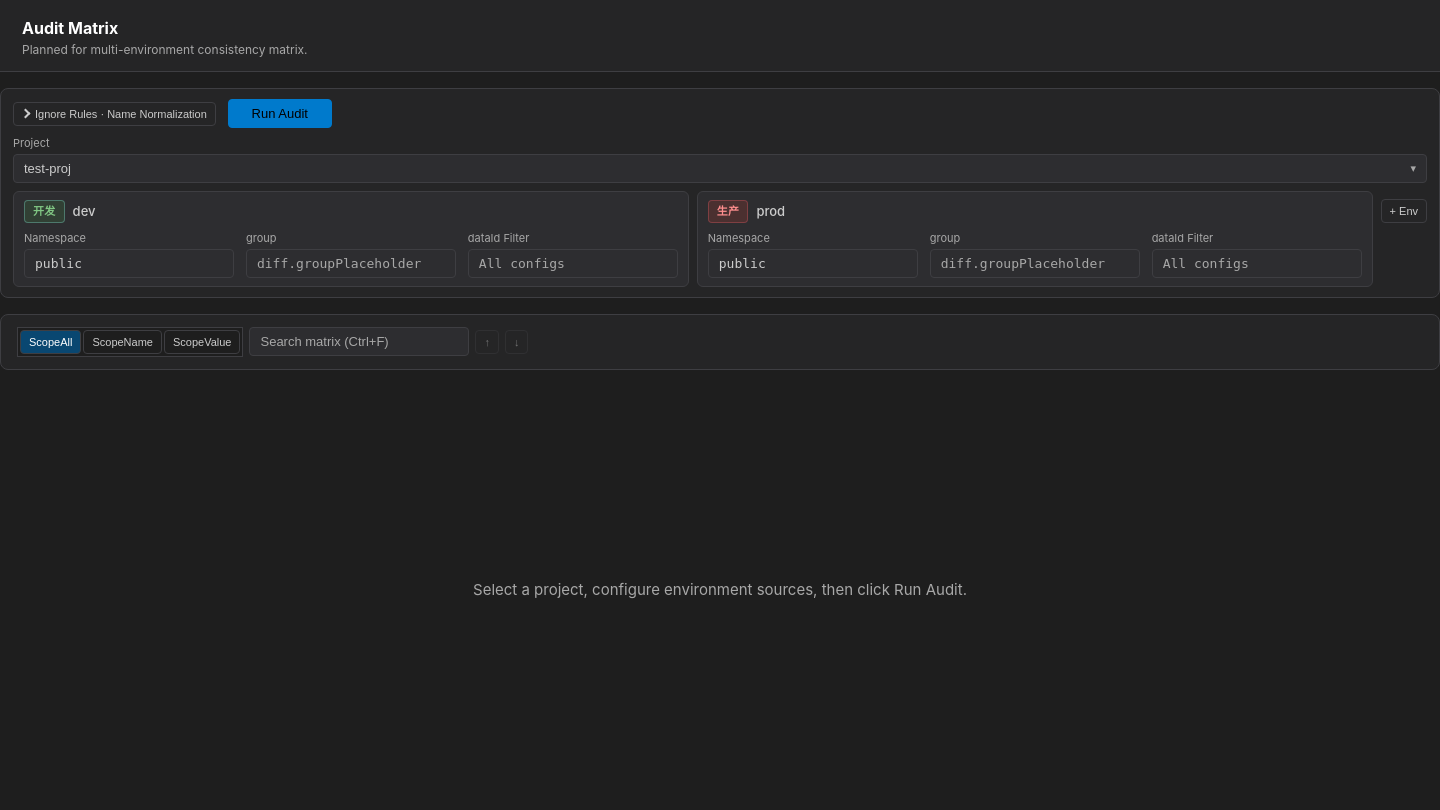
AuditView › 添加和删除归一化规则
This screenshot has width=1440, height=810.
Click the button "Ignore Rules · Name Normalization" at (114, 114), box [13,102,216,126]
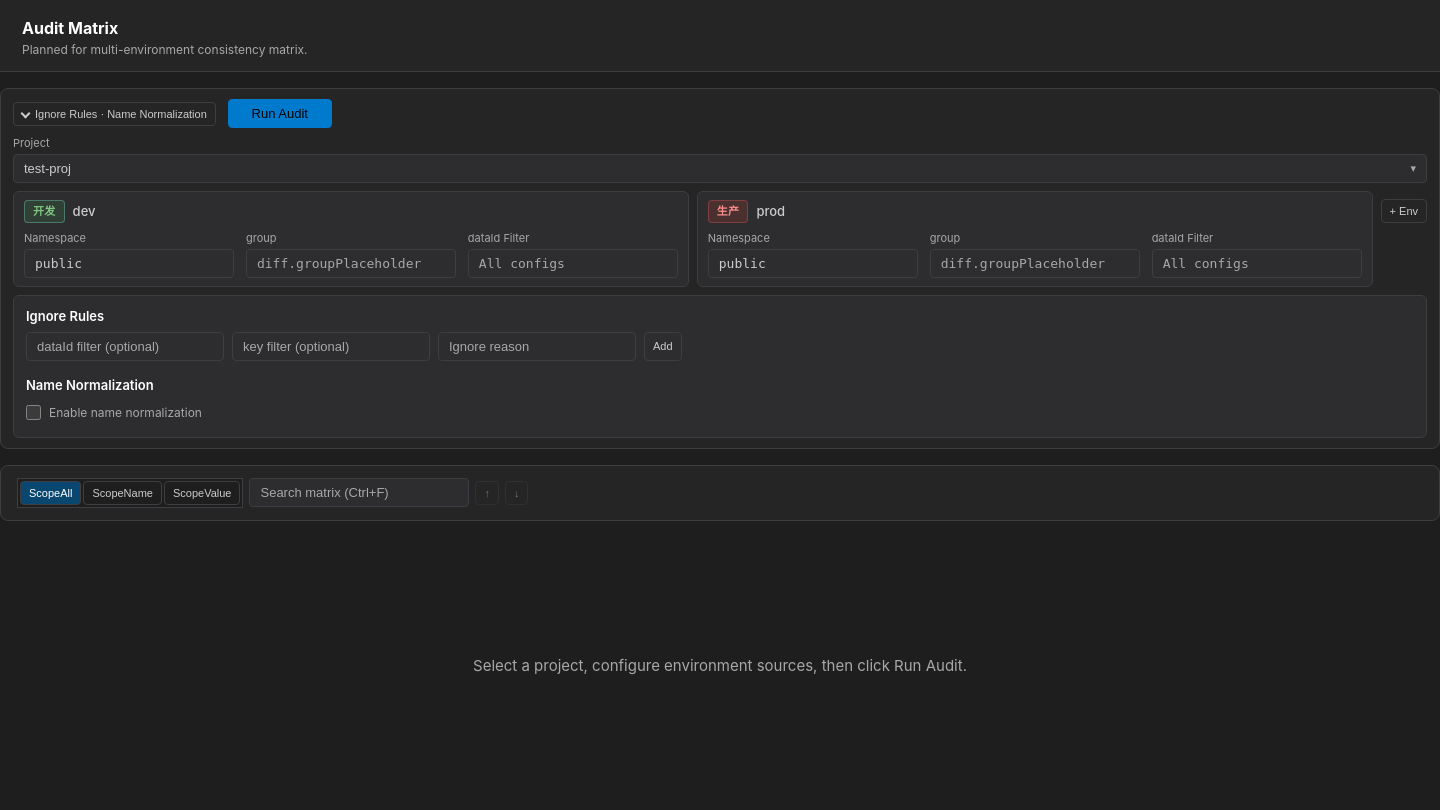
Click the checkbox labelled "Enable name normalization" at (34, 412), box [26,405,41,420]
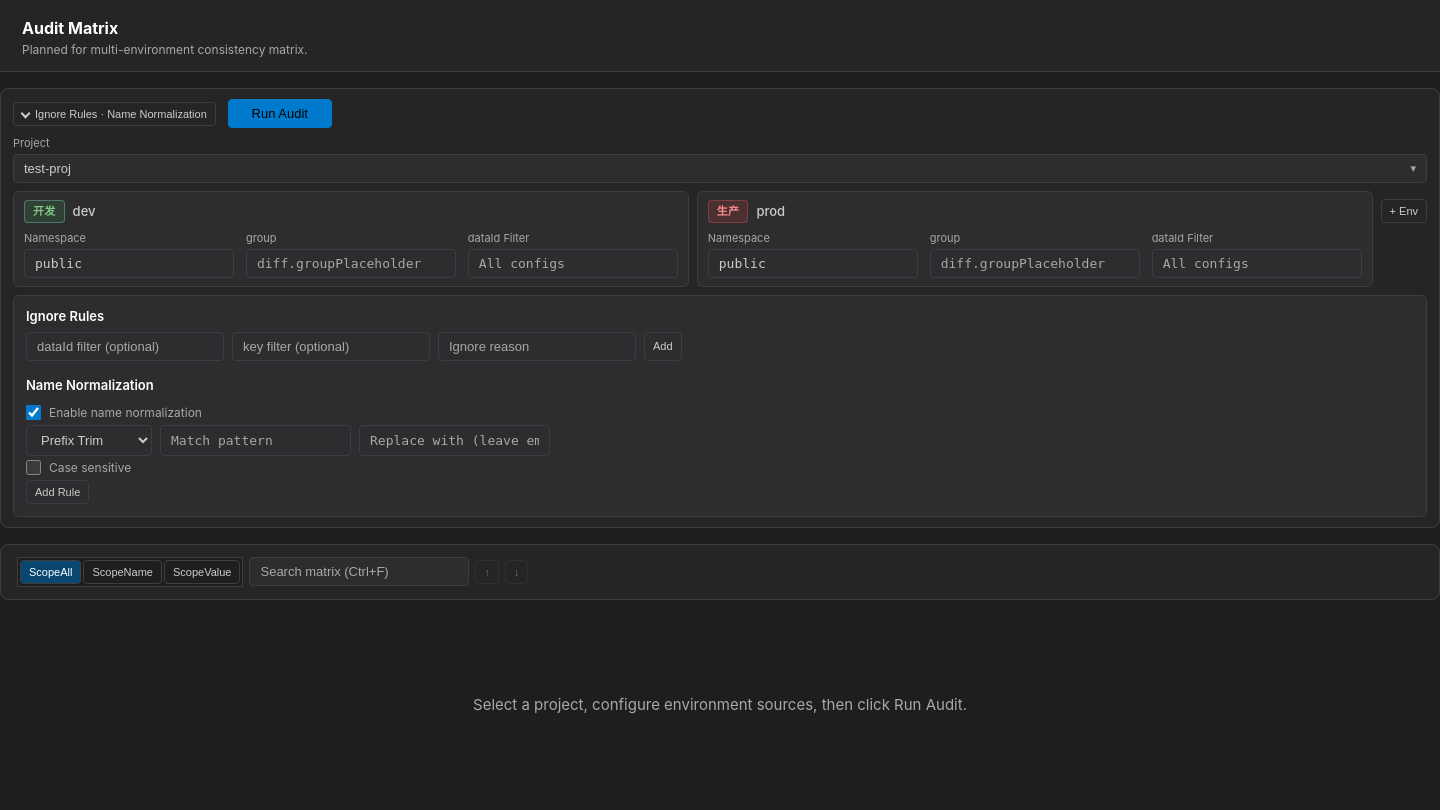
//  添加归一化规则
Type "dev-" into the field with placeholder "Match pattern" at (256, 440), box [160,424,351,456]
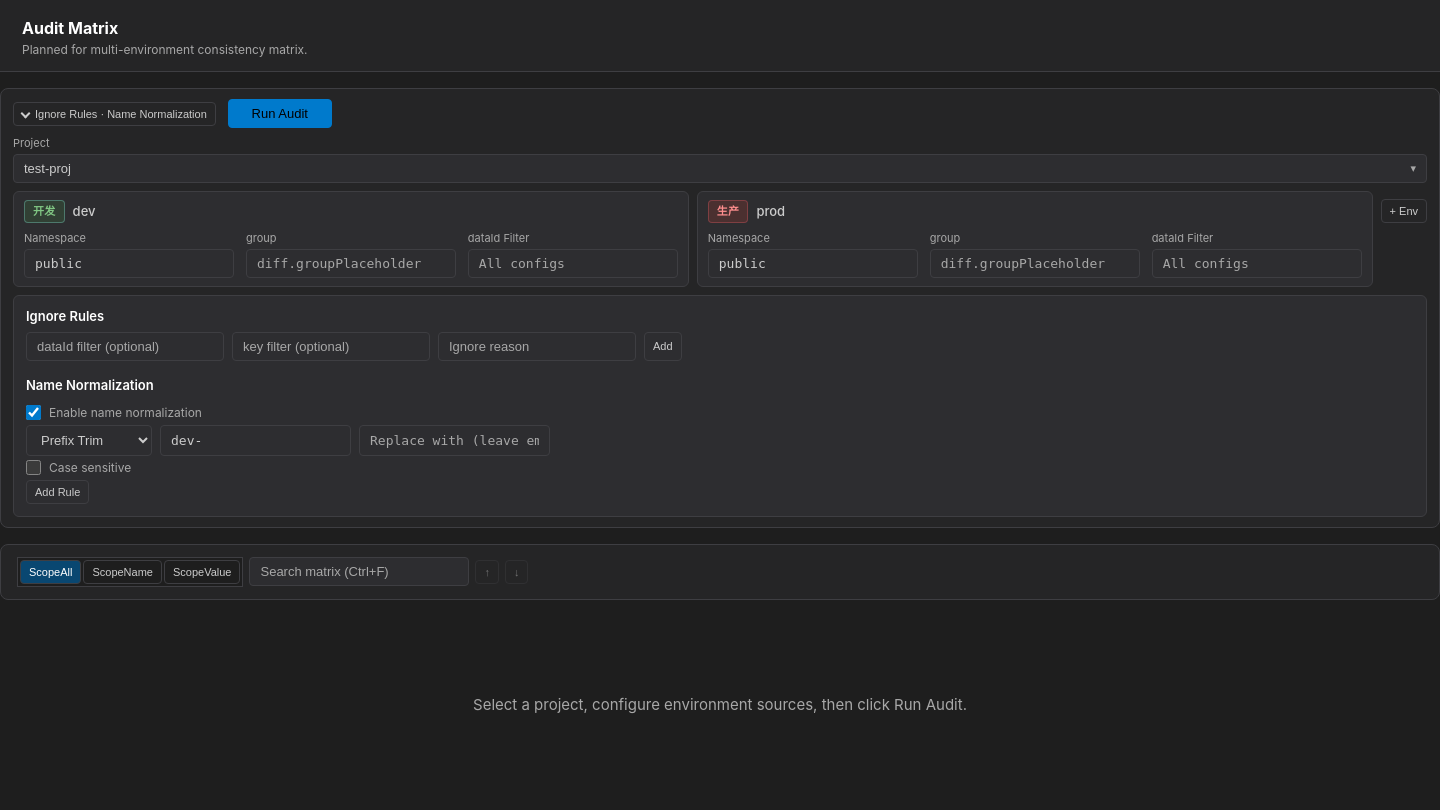
Click the button "Add Rule" at (58, 492), box [26,480,89,504]
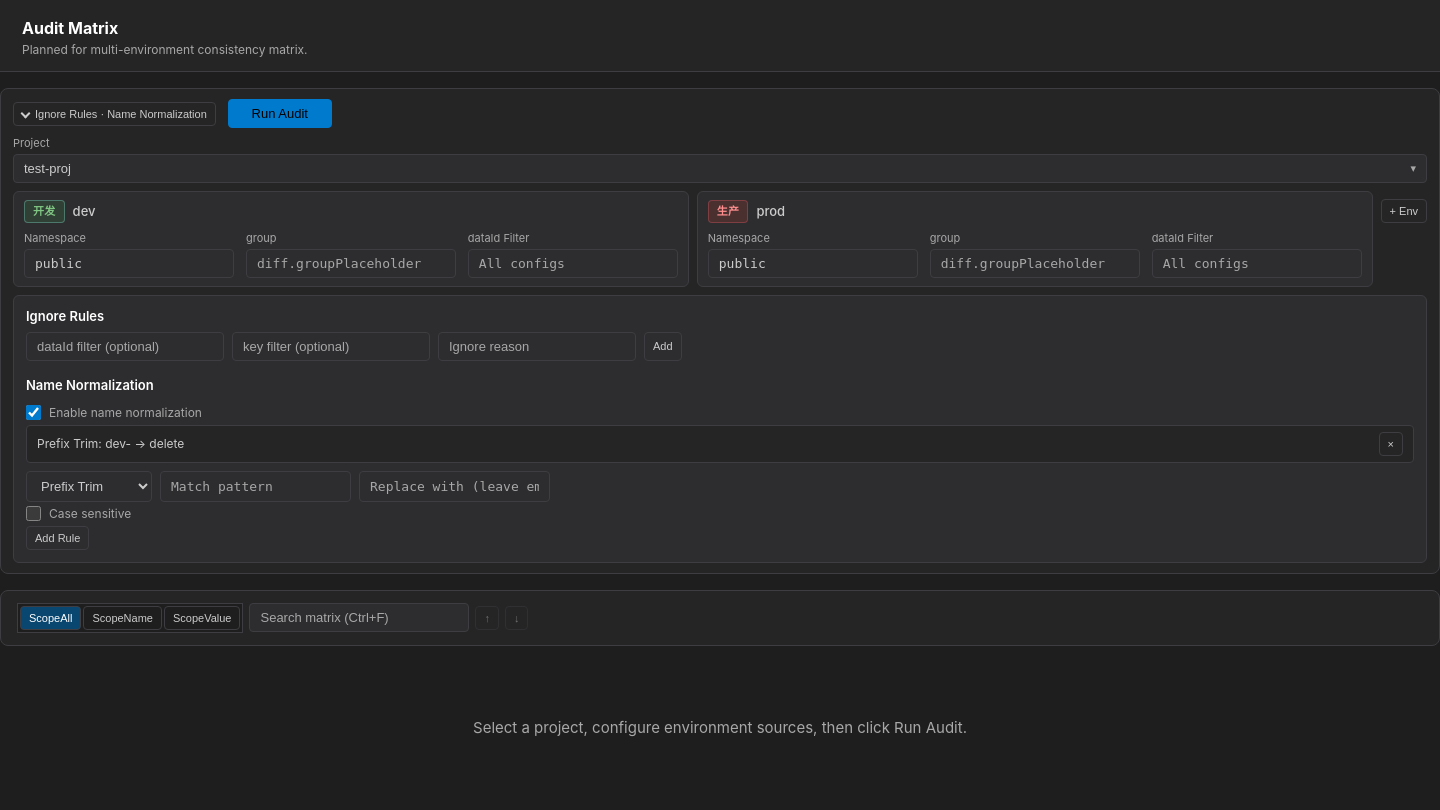
Result: the text "Prefix Trim: dev- → delete" is shown at [37,436,184,451]
